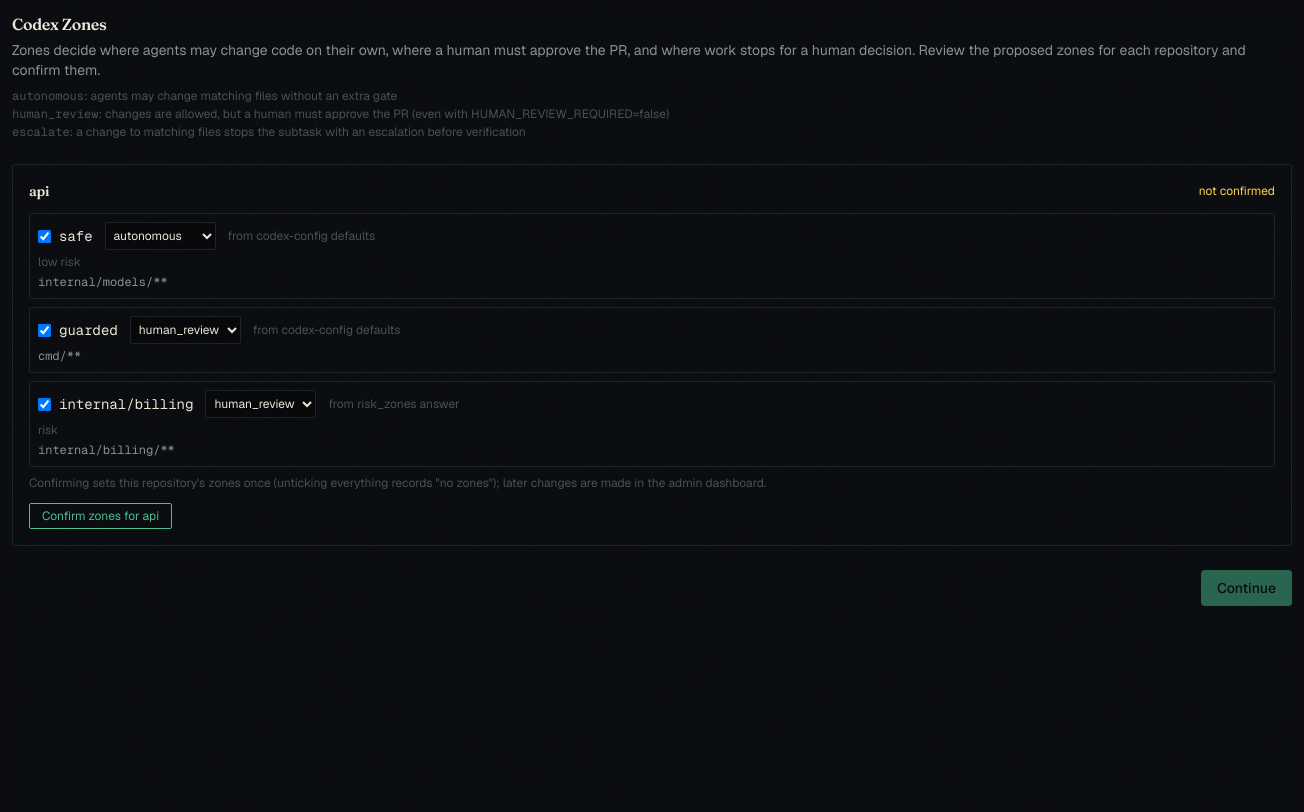
ZonesStep (onboarding wizard) › confirming with every zone unticked sends an explicit empty choice
The image size is (1304, 812).
Expected: the element with test id "proposed-zone-safe" is shown, [29,213,1275,299]
Step 1. Click the checkbox labelled "safe" → (44, 236), box [38,230,51,242]
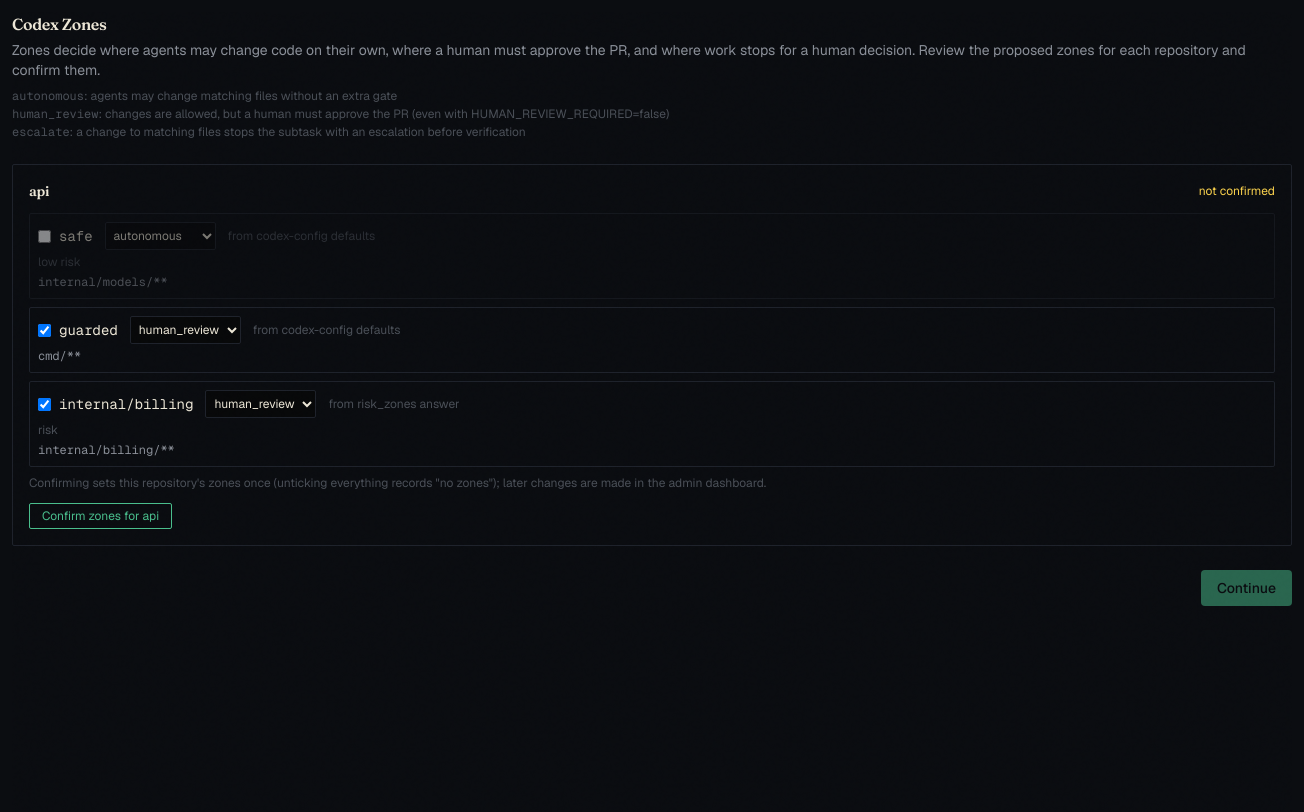
Step 2. Click the checkbox named "Include guarded" → (44, 330), box [38,324,51,336]
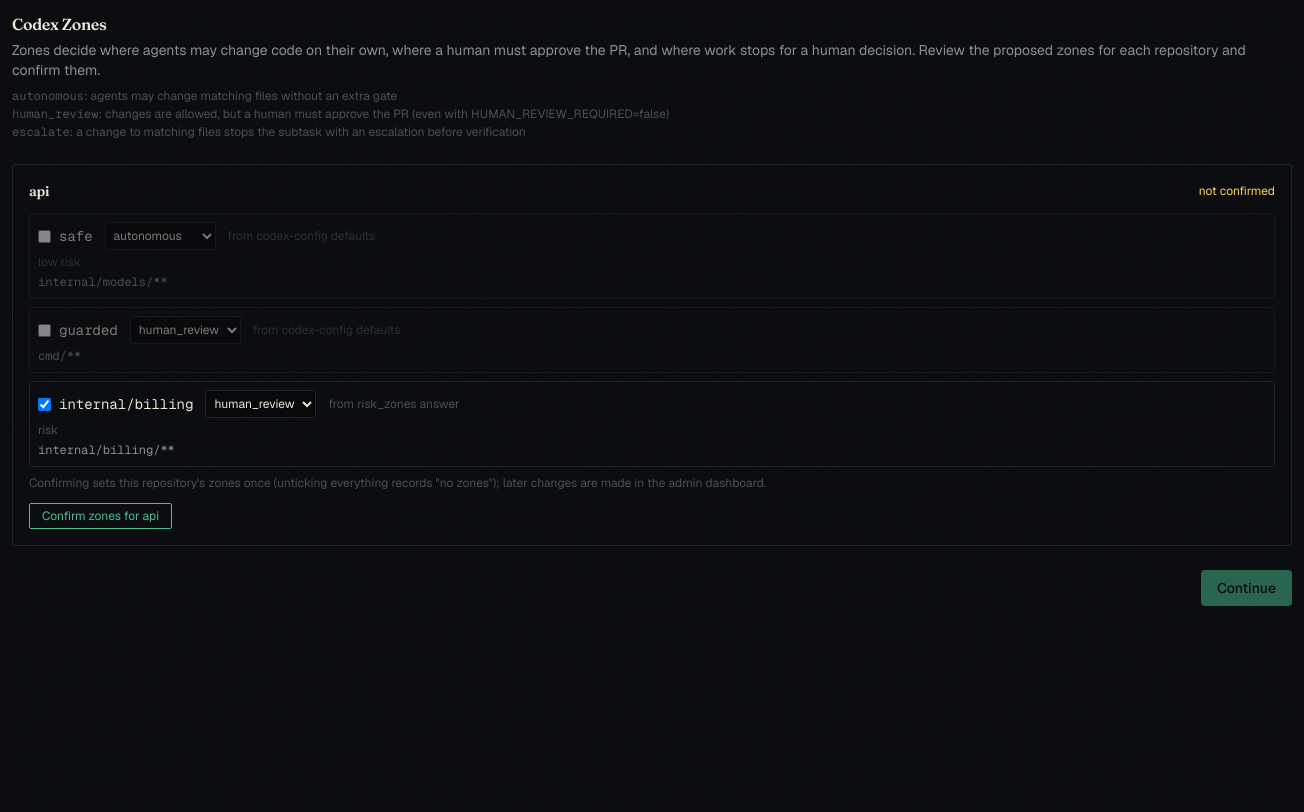
Step 3. Click the checkbox labelled "internal/billing" → (44, 404), box [38,398,51,410]
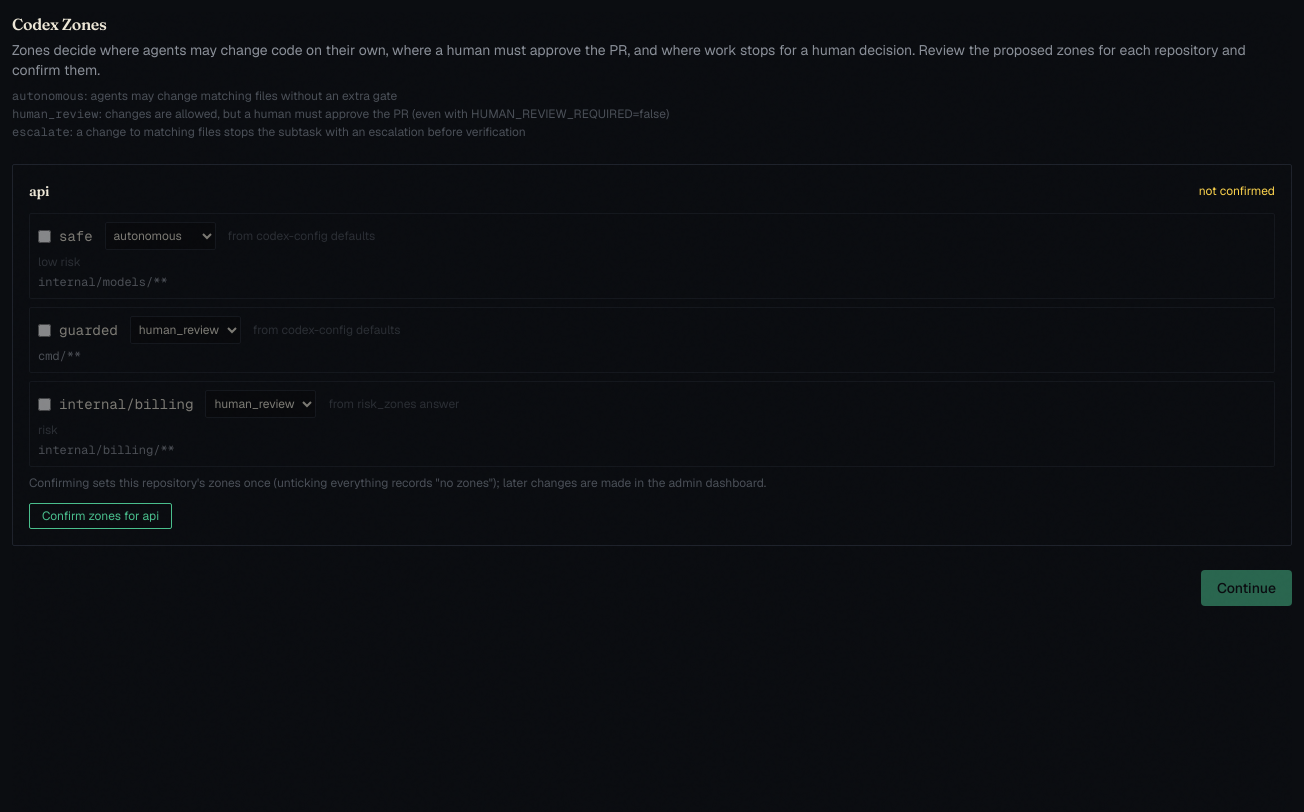
Step 4. Click the button "Confirm zones for api" → (101, 516), box [29,503,172,529]
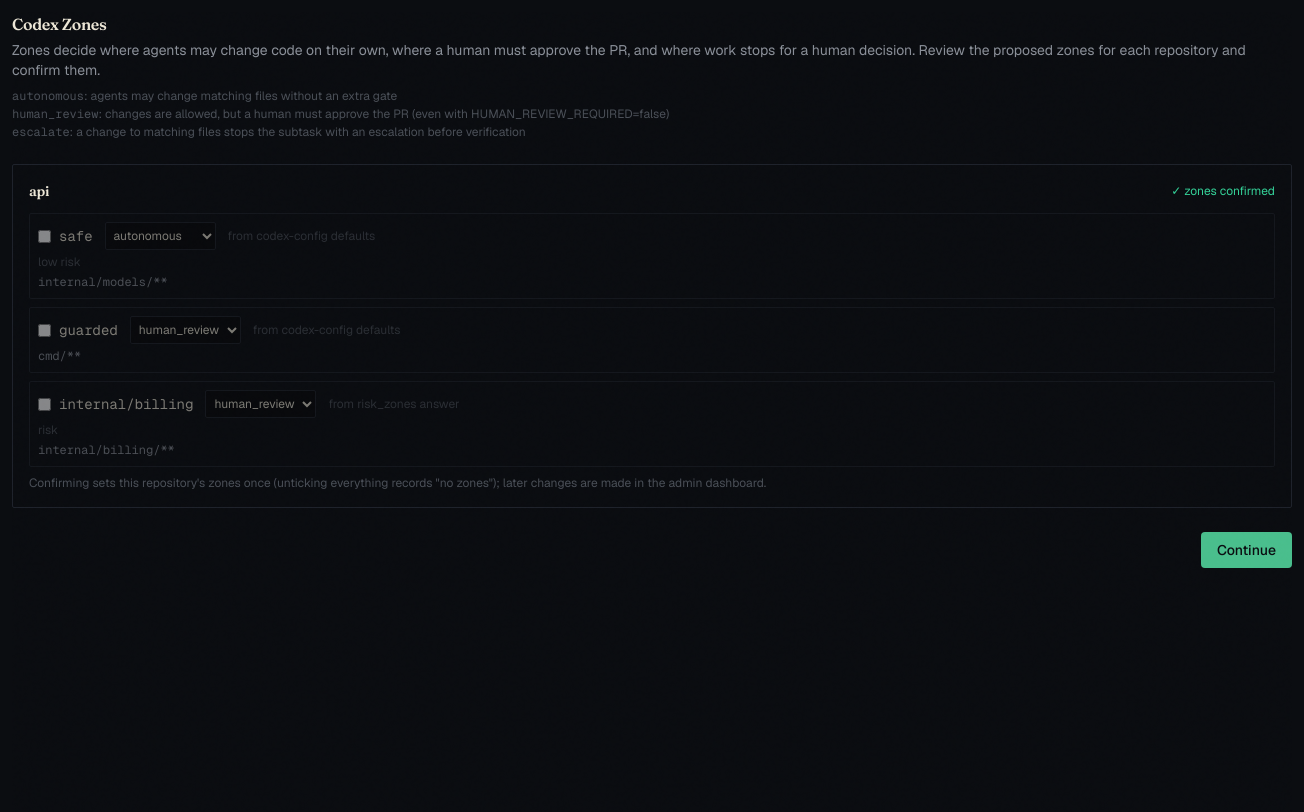
Result: the text "✓ zones confirmed" is shown at [1171,183,1275,199]
